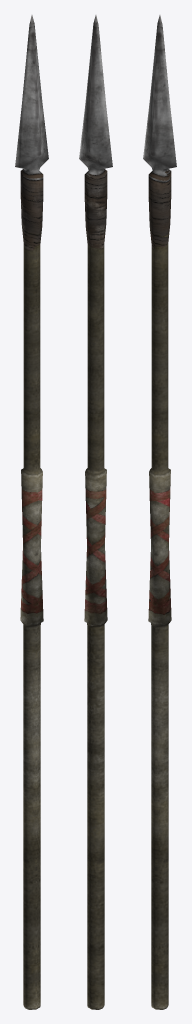
Rendered from spear mesh.FBX.
The picture shows the model from 3 angles, left to right: view 1: azimuth 30°, elevation 25°; view 2: azimuth 150°, elevation 25°; view 3: azimuth 330°, elevation 25°; orthographic projection.
Visible parts, largest first — view 1: spear005; view 2: spear005; view 3: spear005.
Part boxes in pixels (x1=…): spear005: x1=15, y1=15, x2=48, y2=1009; spear005: x1=79, y1=15, x2=112, y2=1009; spear005: x1=143, y1=15, x2=176, y2=1009.
Size of the model in its own units: 5.45 by 153 by 4.53.
